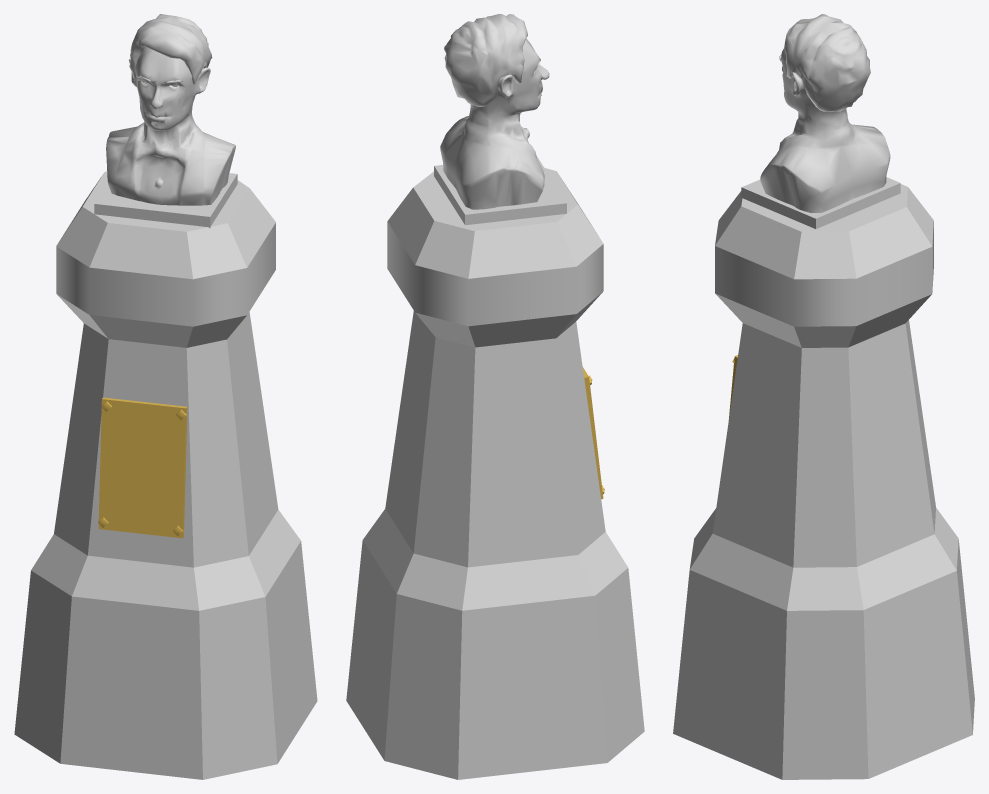
File: busto.fbx
3 views of the same model, side by side, from view 1: azimuth 30°, elevation 25°; view 2: azimuth 150°, elevation 25°; view 3: azimuth 270°, elevation 25° (orthographic).
Visible parts, largest first — view 1: pasted__pCube8.003; view 2: pasted__pCube8.003; view 3: pasted__pCube8.003.
Boxes of the visible parts, x1,y1,x2,y2 form: pasted__pCube8.003: (14,14,317,779); pasted__pCube8.003: (346,14,644,779); pasted__pCube8.003: (673,14,974,779).
Bounding box in the file's own units: 15.24 × 38.85 × 15.24.
